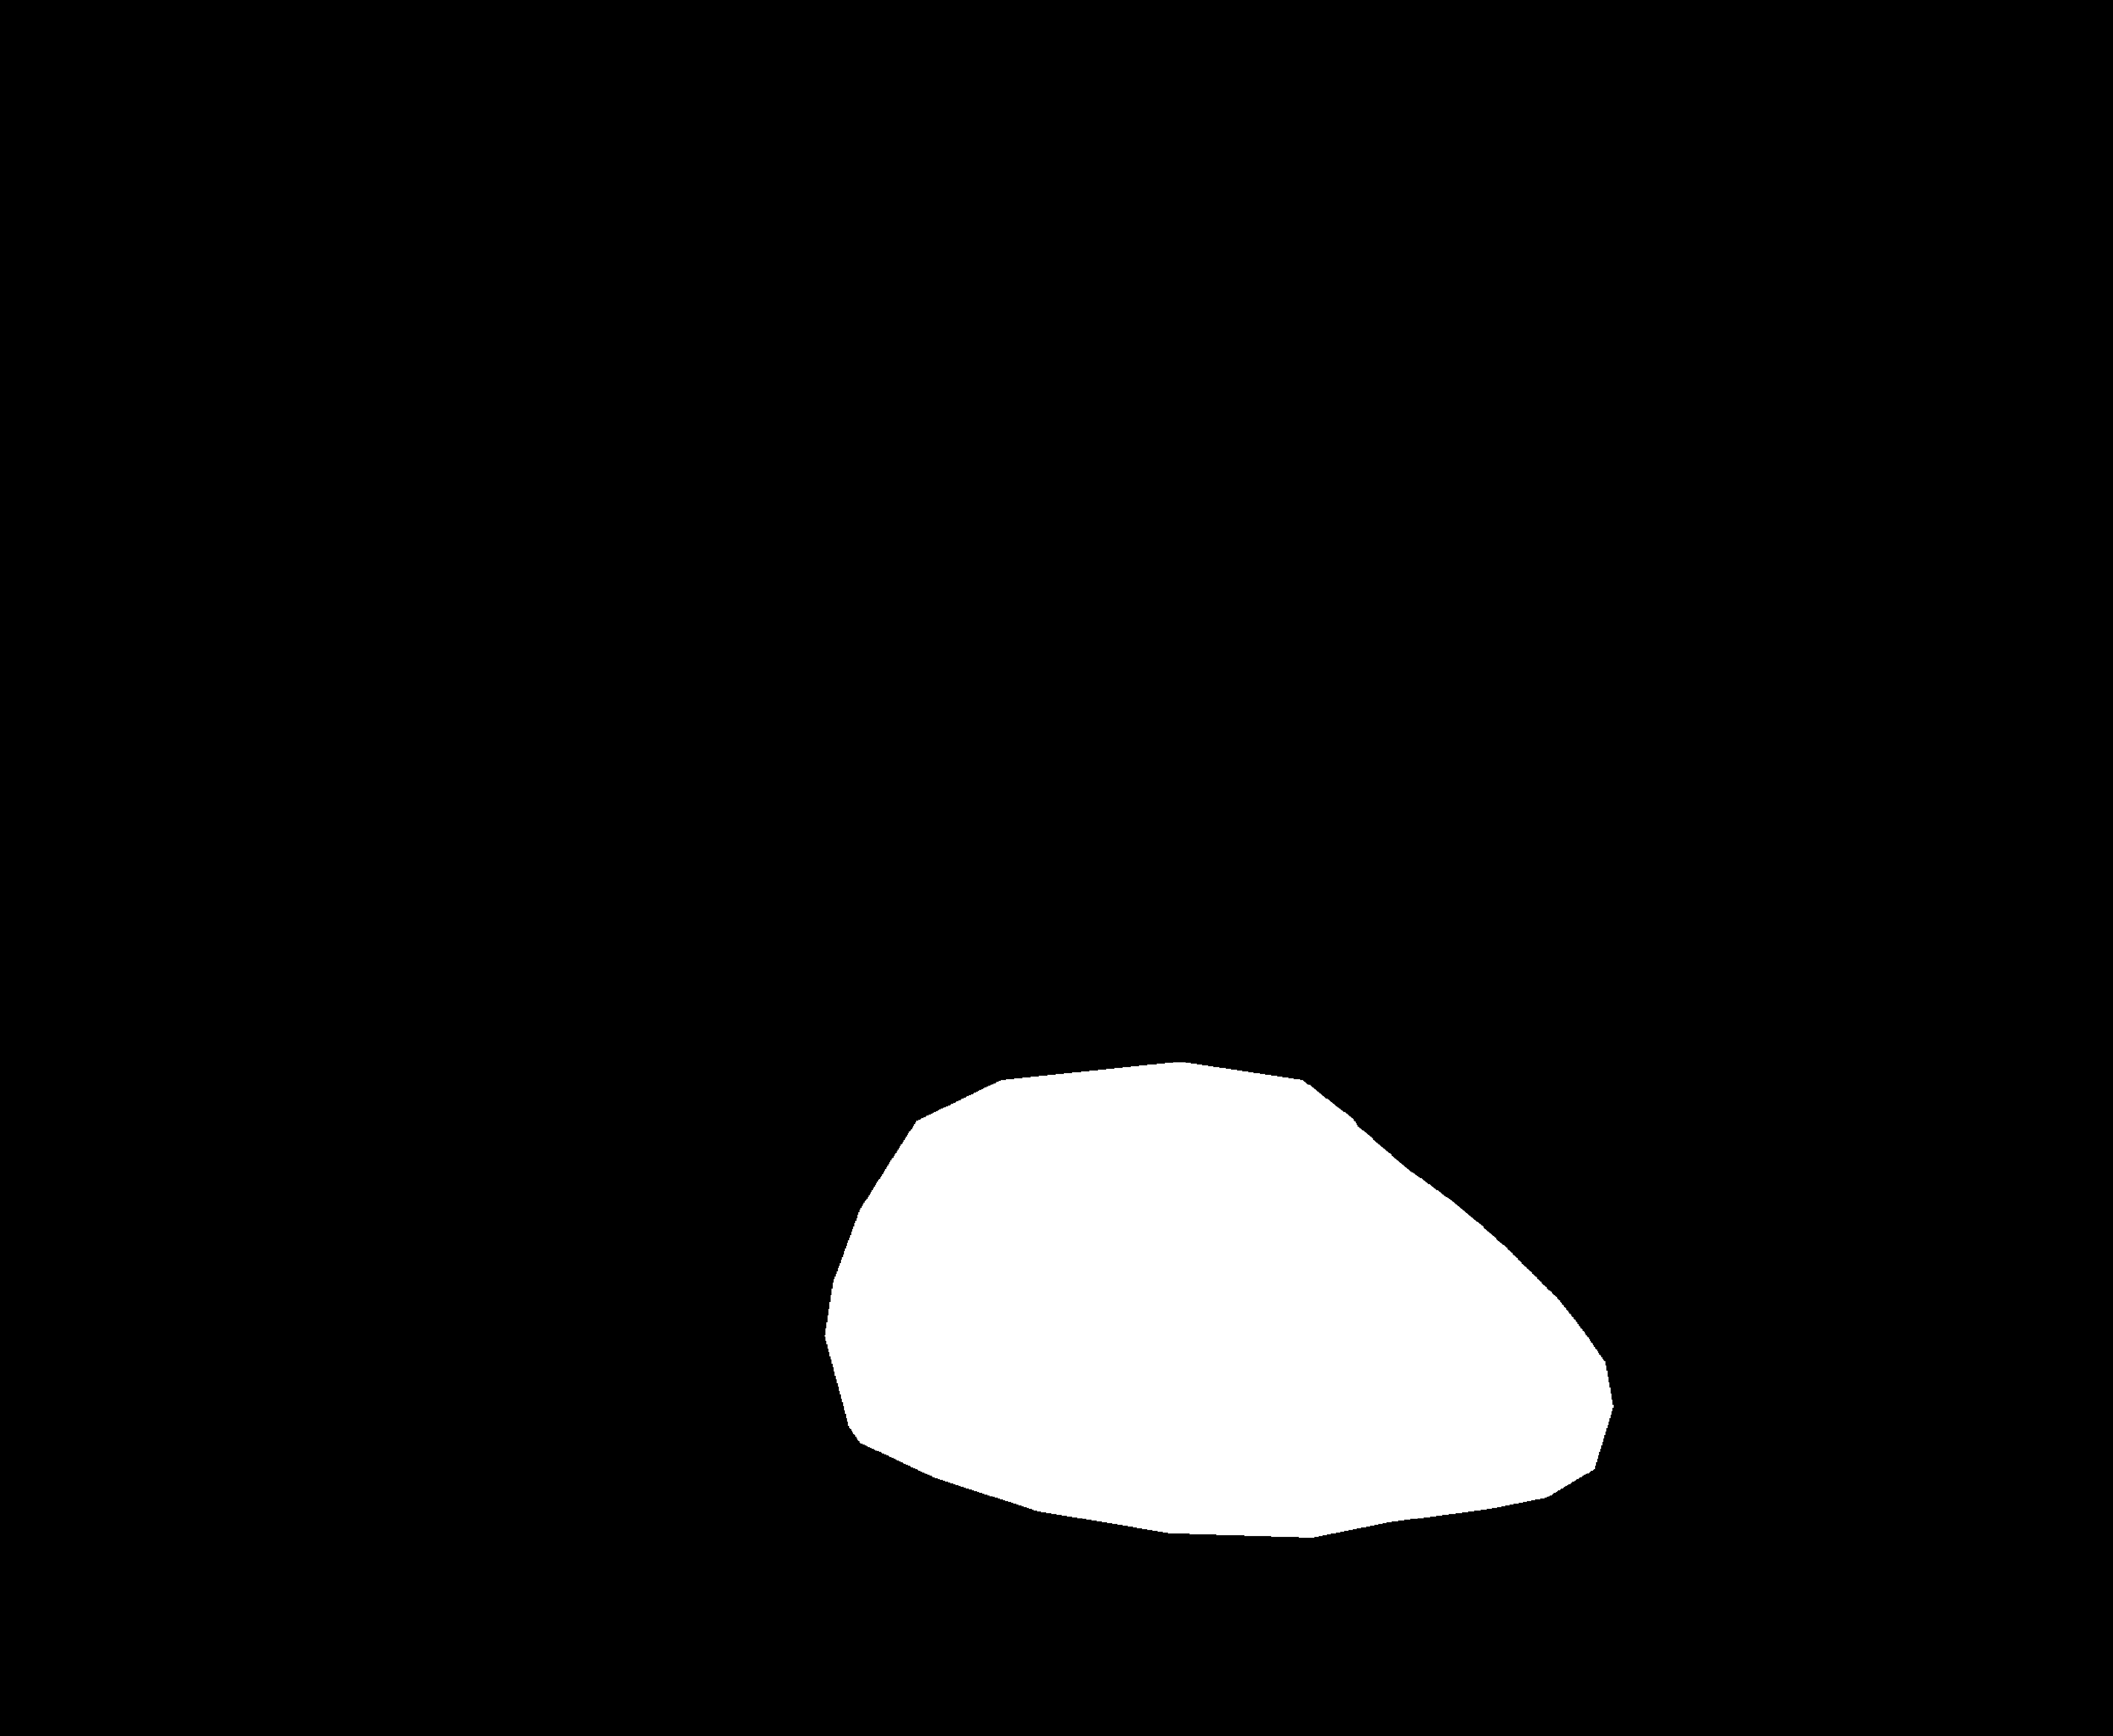heart: (834, 1081, 1601, 1525)
left_lung: (197, 277, 1009, 1689)
right_lung: (1157, 272, 1985, 1692)
